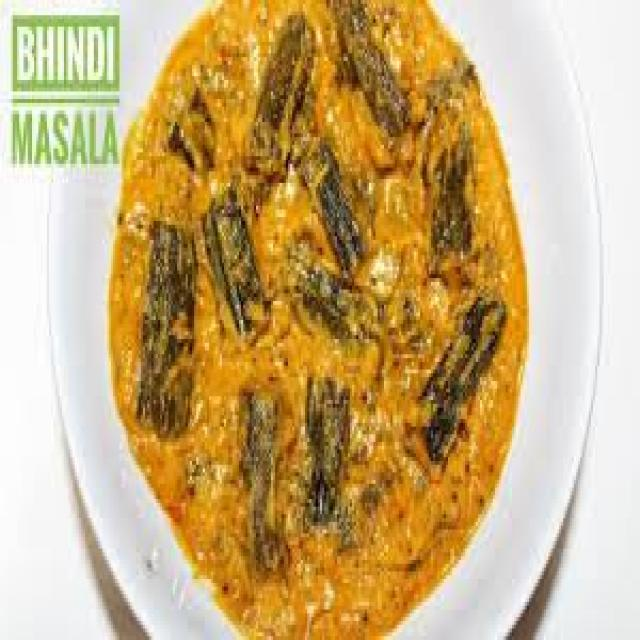Bhindi Masala: (125, 0, 528, 640)
